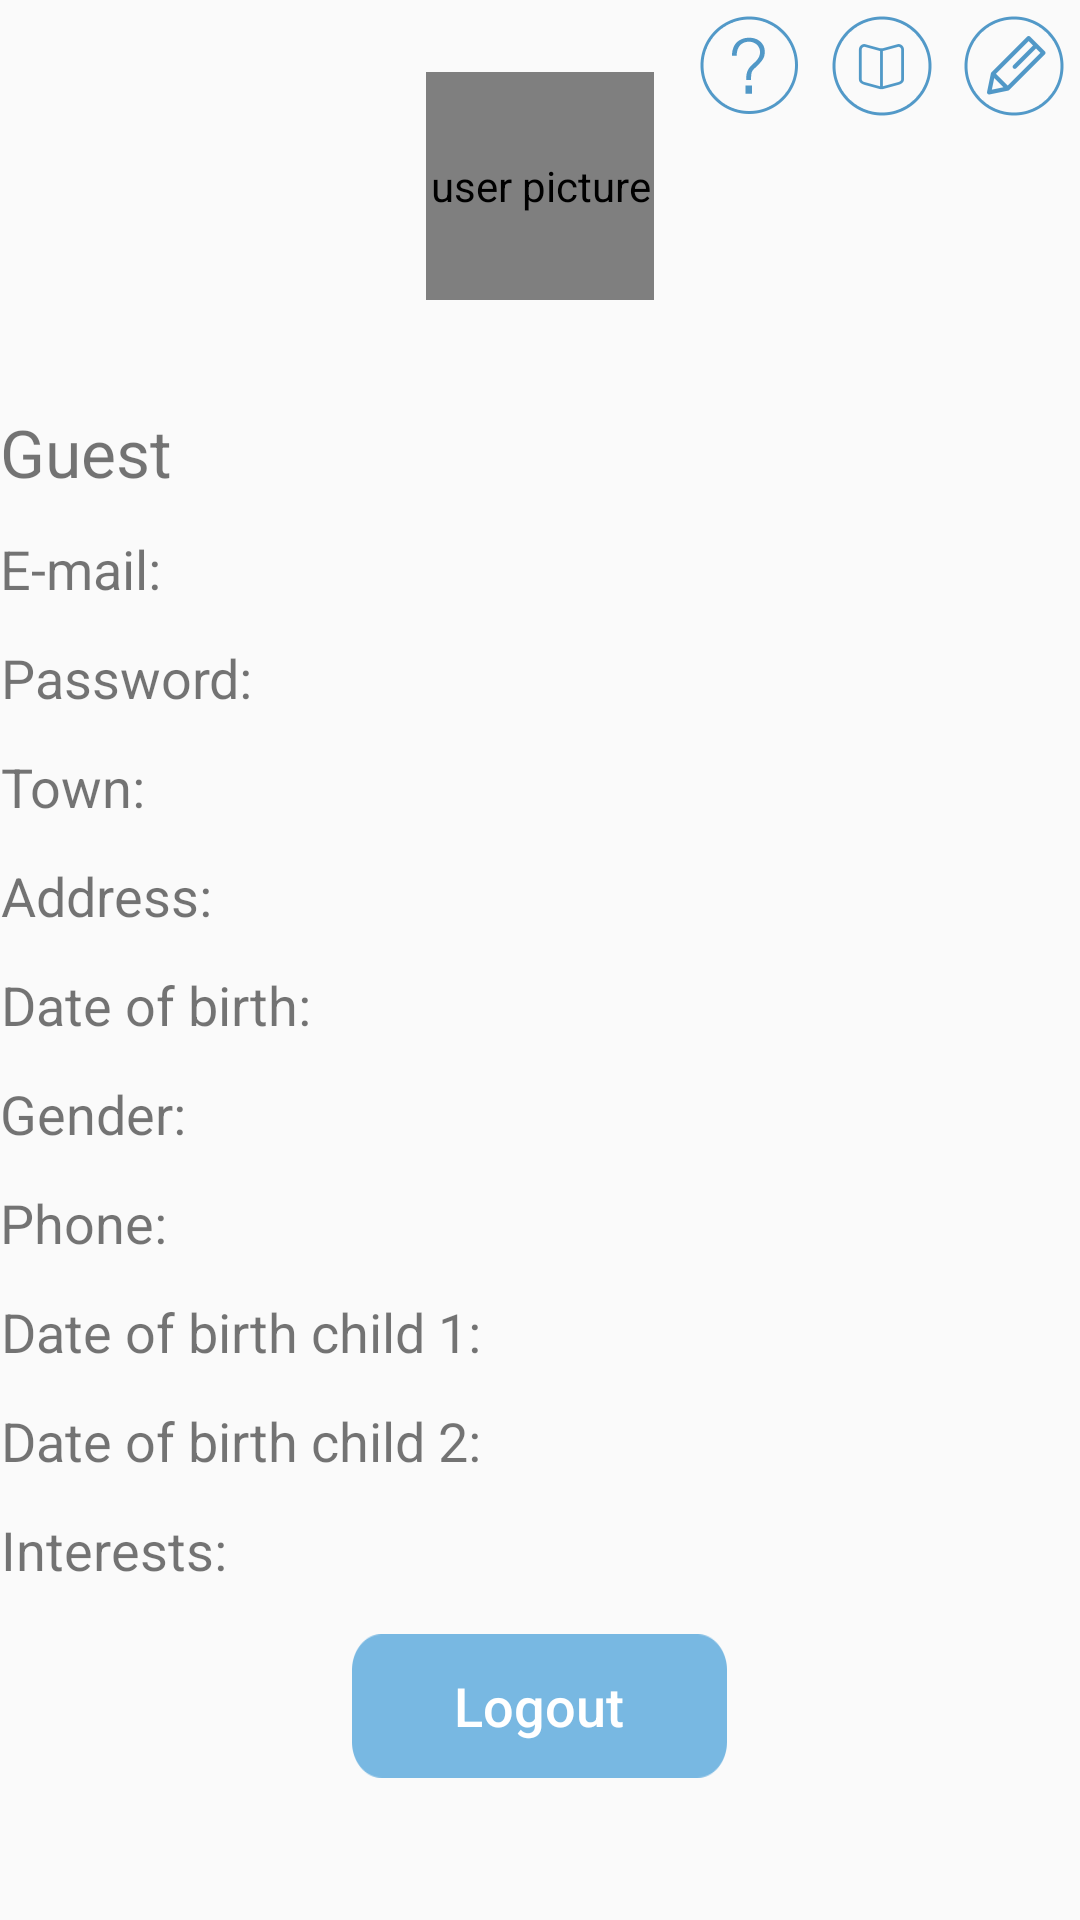

Where to tap for icons on this 1080*1920 app screen, as [x,y]:
edit states: [1014,66]
